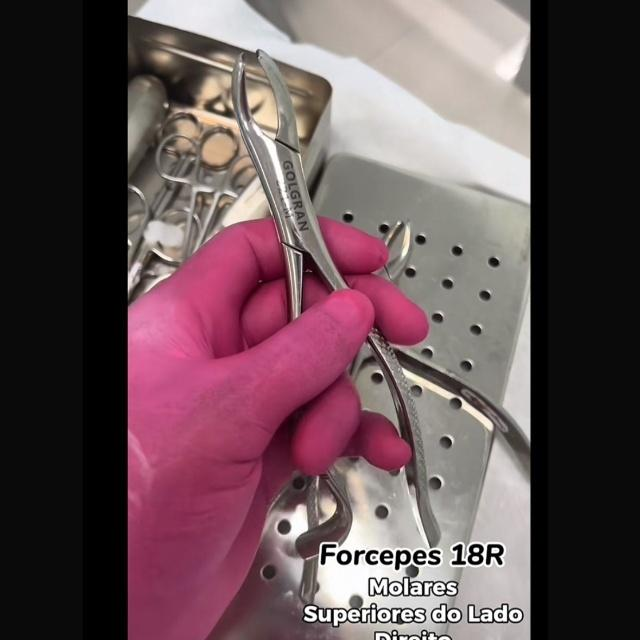forceps: (232, 51, 338, 294), (392, 405, 441, 548), (367, 331, 408, 404), (307, 497, 337, 534), (306, 477, 333, 517), (300, 555, 318, 605), (288, 270, 304, 320), (232, 87, 248, 114)
